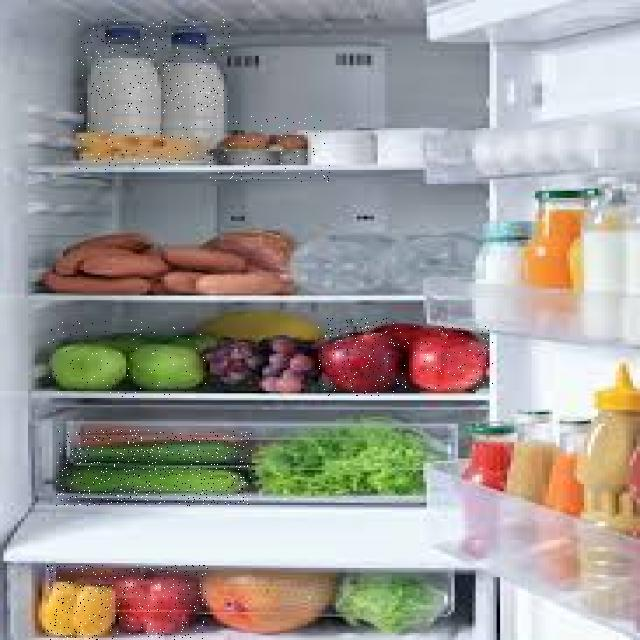apple: (46, 319, 206, 398), (395, 326, 493, 391), (318, 318, 395, 396)
cheese: (74, 123, 200, 170)
courgettes: (56, 430, 252, 506)
eggs: (203, 116, 332, 182)
milk: (77, 19, 230, 114)
peppers: (47, 565, 208, 640)
